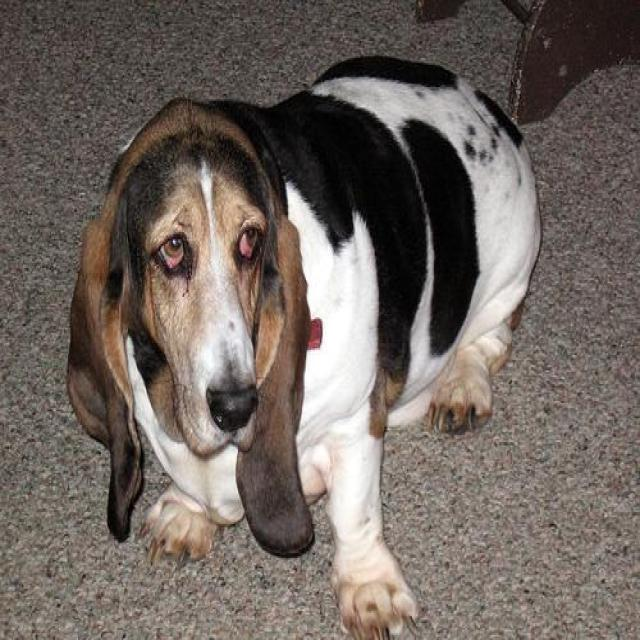basset: (61, 48, 543, 638)
